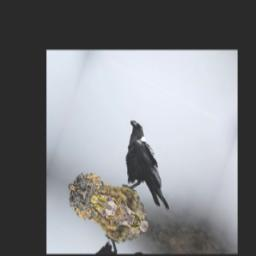Crow: (109, 115, 192, 216)
